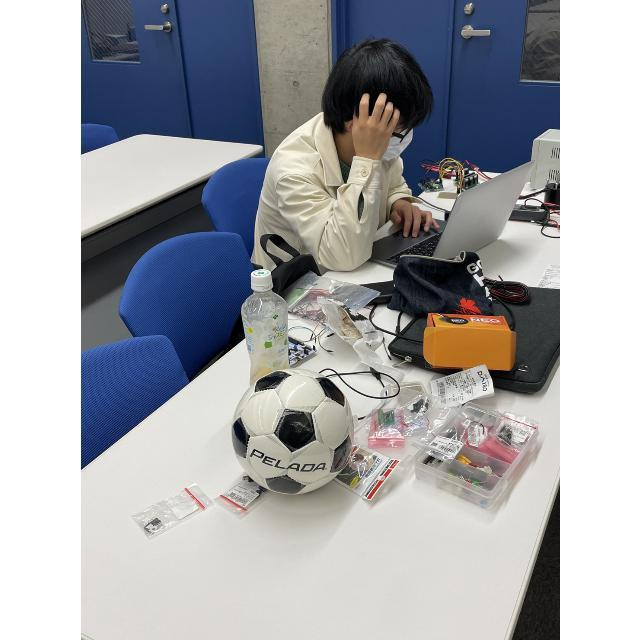ball: (231, 368, 353, 496)
